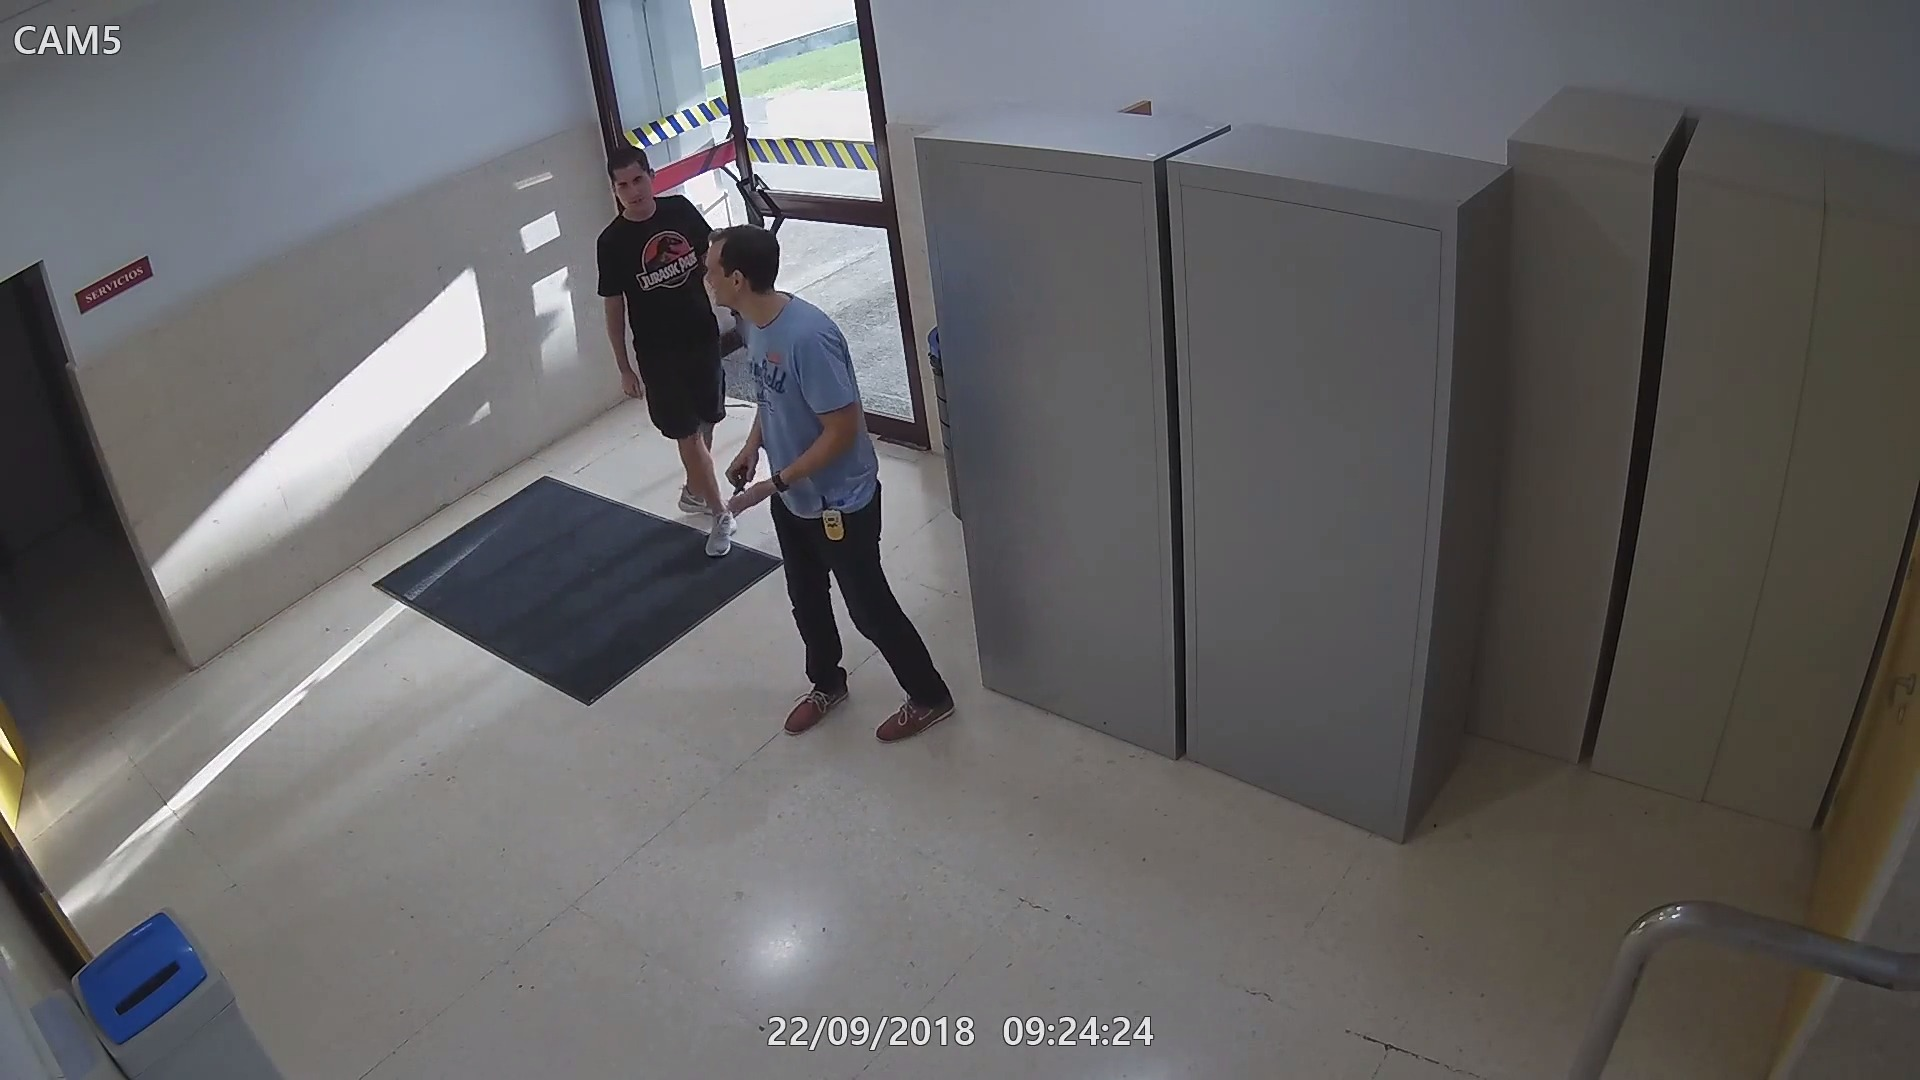Knife: (704, 444, 762, 535)
